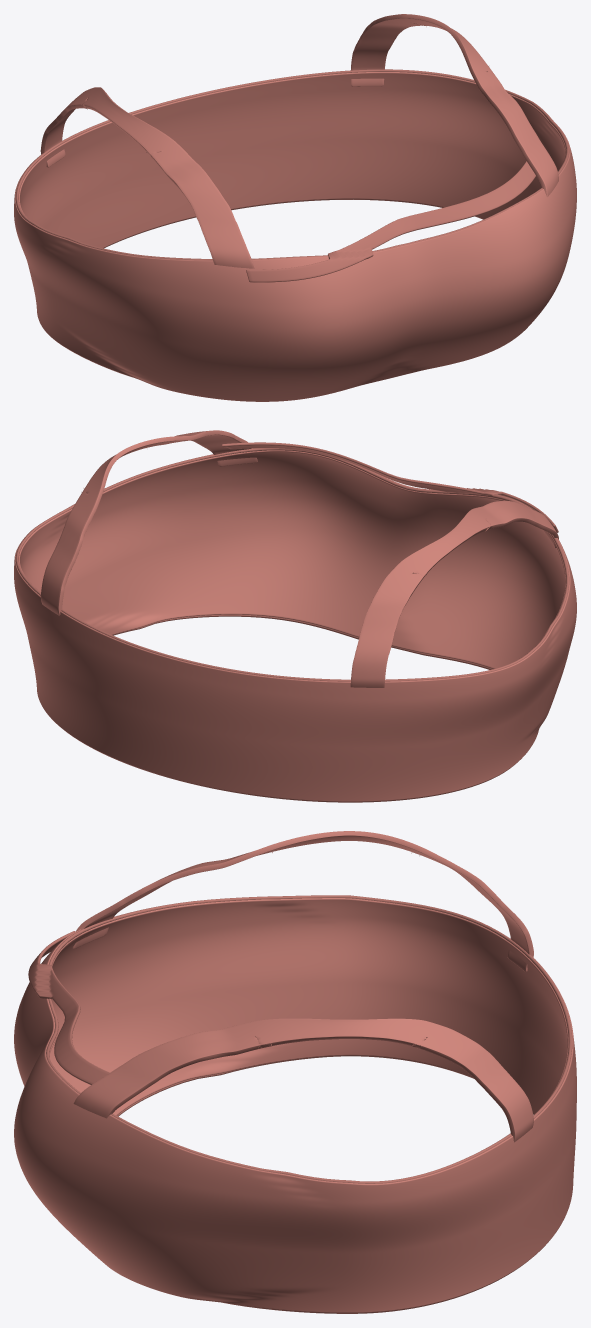
Rendered from Feminine-strappy.glb.
3 renders of one model, top to bottom at view 1: azimuth 30°, elevation 25°; view 2: azimuth 150°, elevation 25°; view 3: azimuth 270°, elevation 25°, orthographic. The views are drawn at different scales.
Parts seen in each view (by area): view 1: Clothing / strappy body, Clothing / strappy strap -1, Clothing / strappy strap 1, Crop / visible diagonal band, strappy body / bound edge.001 export; view 2: Clothing / strappy body, Clothing / strappy strap -1, Clothing / strappy strap 1, strappy body / bound edge.001 export, Crop / visible diagonal band, strappy body / bound edge export; view 3: Clothing / strappy body, Clothing / strappy strap 1, Clothing / strappy strap -1, strappy body / bound edge.001 export, Crop / visible diagonal band, strappy body / bound edge export.
Part boxes in pixels (x1,y1,x2,y2): Clothing / strappy body: [14, 72, 576, 401]; Clothing / strappy strap -1: [40, 87, 254, 268]; Clothing / strappy strap 1: [351, 14, 558, 197]; Crop / visible diagonal band: [246, 161, 535, 282]; strappy body / bound edge.001 export: [15, 69, 569, 260]; Clothing / strappy body: [14, 448, 576, 801]; Clothing / strappy strap -1: [350, 500, 558, 687]; Clothing / strappy strap 1: [40, 430, 257, 615]; strappy body / bound edge.001 export: [15, 448, 569, 681]; Crop / visible diagonal band: [222, 442, 558, 532]; strappy body / bound edge export: [72, 614, 504, 802]; Clothing / strappy body: [14, 898, 576, 1312]; Clothing / strappy strap 1: [73, 1018, 533, 1142]; Clothing / strappy strap -1: [72, 831, 533, 971]; strappy body / bound edge.001 export: [46, 895, 572, 1183]; Crop / visible diagonal band: [28, 931, 109, 1084]; strappy body / bound edge export: [117, 1055, 519, 1313].
Bounding box in the file's own units: 0.6458 × 0.2852 × 0.5334.
